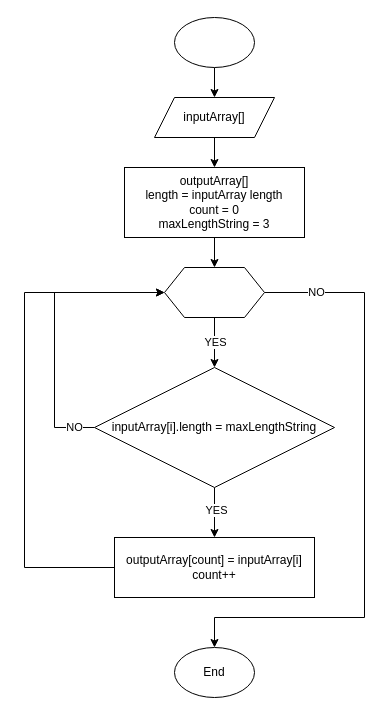
Some shapes in this 390 by 715 pixel diagram are drawn without their labels. The shapes that lost their labels are listed below. From the top down, each one's centre as x and y in pixels, then its label:
At pixel 214 42: "Start".
At pixel 214 292: "i = 0 i < length i = i++".
